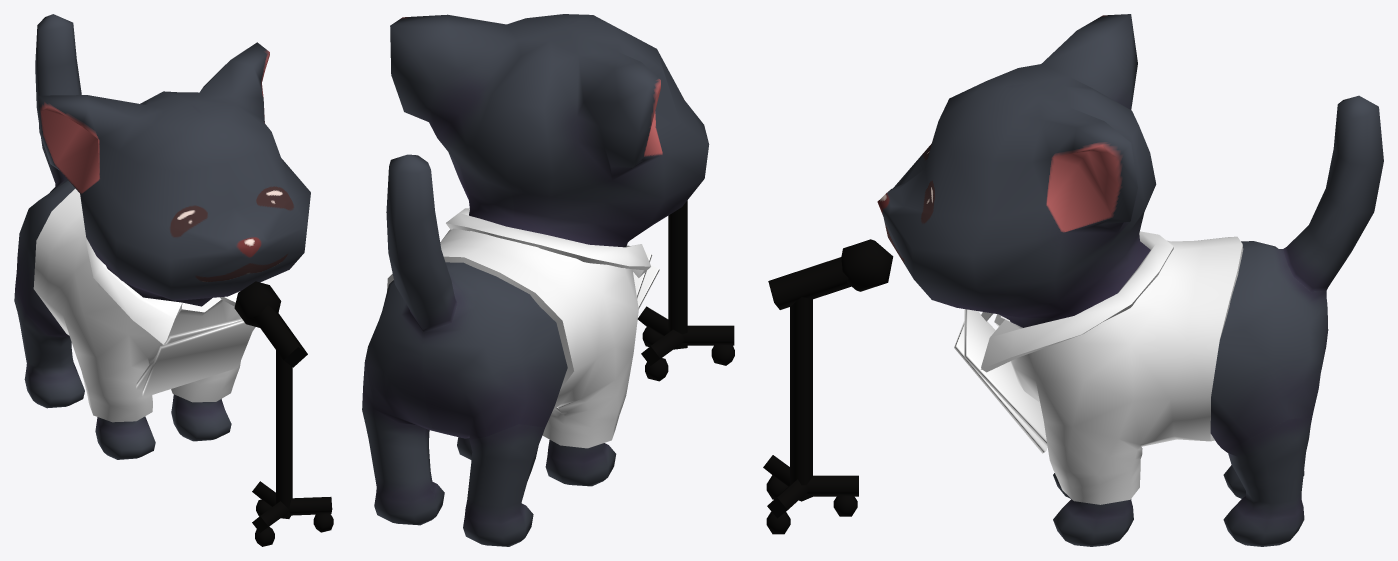
Rendered from Press Cat03.fbx.
The picture shows the model from 3 angles, left to right: view 1: azimuth 30°, elevation 25°; view 2: azimuth 150°, elevation 25°; view 3: azimuth 270°, elevation 25°; orthographic projection. The views are drawn at different scales.
Parts seen in each view (by area): view 1: Cat_Base002, Press_Cat_Shirt, Press_Cat_Mic, Press_Cat_Script; view 2: Cat_Base002, Press_Cat_Shirt, Press_Cat_Mic, Press_Cat_Script; view 3: Cat_Base002, Press_Cat_Shirt, Press_Cat_Mic, Press_Cat_Script.
Part boxes in pixels (x1,y1,x2,y2): Cat_Base002: (14, 14, 310, 459); Press_Cat_Shirt: (33, 188, 241, 422); Press_Cat_Mic: (234, 281, 333, 546); Press_Cat_Script: (136, 318, 255, 397); Cat_Base002: (362, 14, 709, 546); Press_Cat_Shirt: (387, 208, 650, 448); Press_Cat_Mic: (637, 200, 734, 381); Press_Cat_Script: (633, 252, 659, 309); Cat_Base002: (877, 14, 1383, 546); Press_Cat_Shirt: (981, 231, 1243, 504); Press_Cat_Mic: (763, 239, 893, 534); Press_Cat_Script: (954, 309, 1047, 453).
Bounding box in the file's own units: 1.75 × 3.47 × 2.68.
3 materials, 1 textured.
